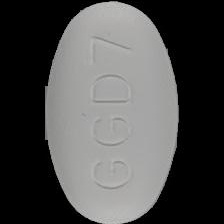0781-1497: (0, 0, 224, 224)
